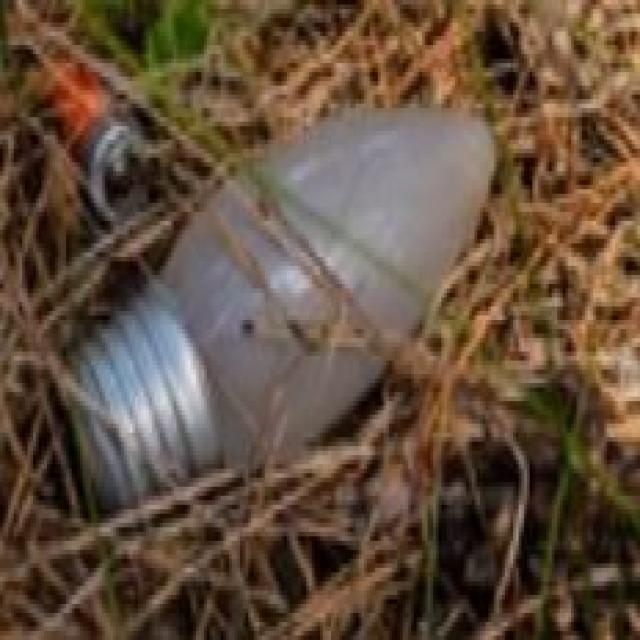electronic: (64, 99, 496, 509)
